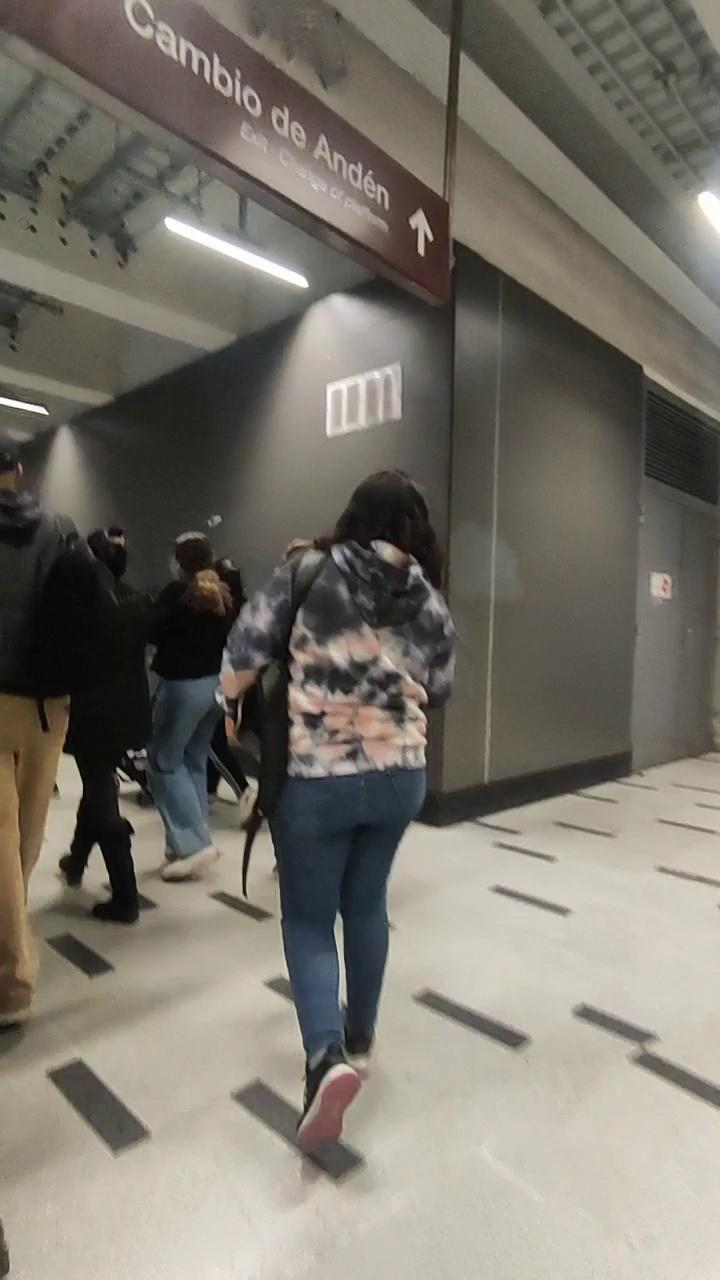up arrow: (404, 188, 442, 280)
